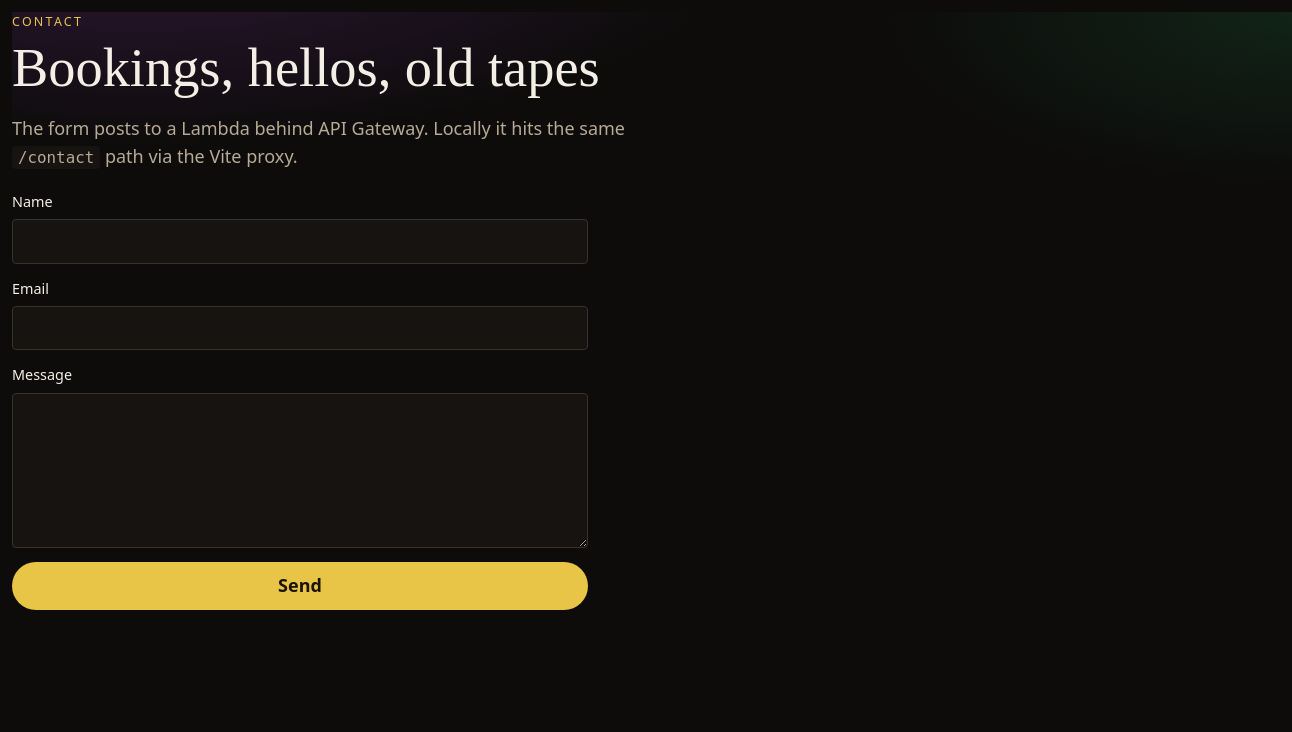
Test: Contact › shows validation error when submitting with empty fields
Click the button "Send" at (300,586), box [12,562,588,610]
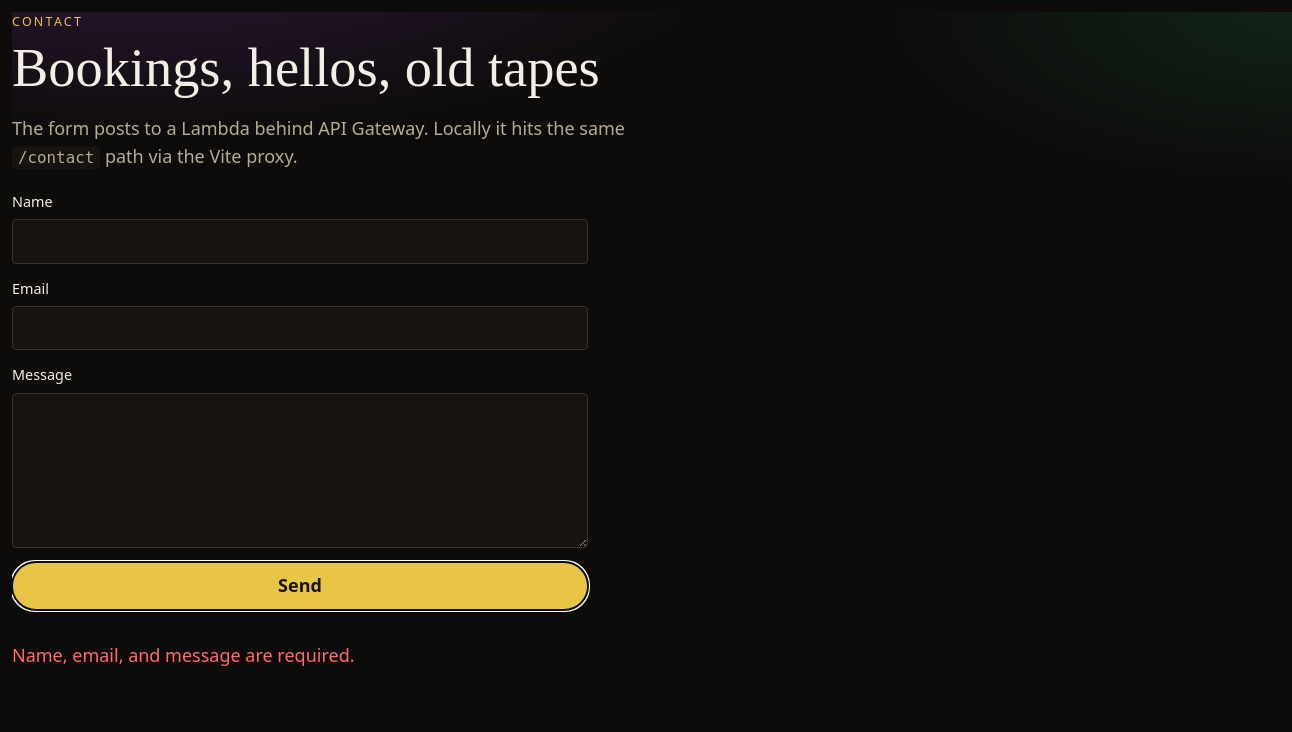
Check: the text "Name, email, and message are required." is shown, box [12,643,354,667]
